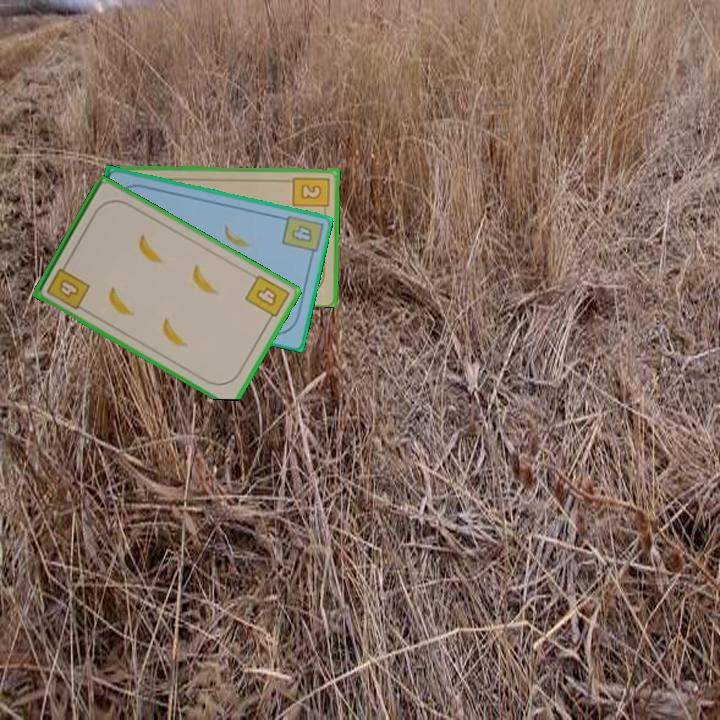2b: (290, 173, 332, 216)
4b: (241, 271, 292, 326), (43, 258, 93, 312), (279, 212, 324, 261)
